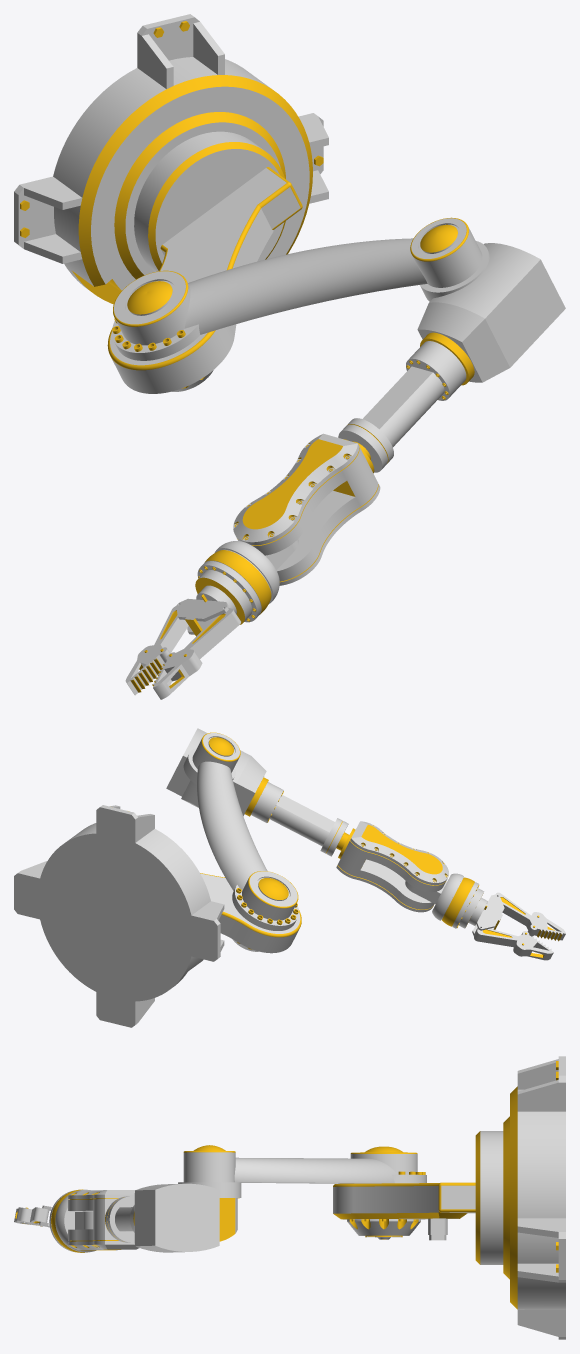
File: MRA.gltf
3 renders of one model, top to bottom at view 1: azimuth 30°, elevation 25°; view 2: azimuth 150°, elevation 25°; view 3: azimuth 270°, elevation 25°, orthographic. The views are drawn at different scales.
Parts seen in each view (by area): view 1: BASE, JAW1, JAW2, JAW3, JAW4, WRIST1, WRIST2, GRIPPER2, GRIPPER1; view 2: BASE, JAW2, JAW4, JAW3, JAW1, WRIST1, GRIPPER1, WRIST2, GRIPPER2; view 3: BASE, JAW1, JAW3, JAW2, JAW4, WRIST1, GRIPPER2.
Part boxes in pixels (x1,y1,x2,y2): BASE: (14, 14, 328, 304); JAW1: (107, 131, 302, 393); JAW2: (112, 217, 482, 360); JAW3: (338, 241, 565, 472); JAW4: (233, 433, 380, 585); WRIST1: (197, 539, 298, 622); WRIST2: (176, 571, 250, 636); GRIPPER2: (152, 608, 240, 699); GRIPPER1: (125, 606, 188, 695); BASE: (14, 805, 224, 1027); JAW2: (192, 732, 298, 930); JAW4: (336, 821, 448, 912); JAW3: (166, 728, 348, 856); JAW1: (200, 873, 301, 953); WRIST1: (405, 873, 479, 928); GRIPPER1: (474, 927, 553, 960); WRIST2: (460, 889, 504, 935); GRIPPER2: (496, 892, 565, 941); BASE: (503, 1056, 565, 1339); JAW1: (333, 1131, 503, 1264); JAW3: (105, 1182, 241, 1252); JAW2: (183, 1145, 426, 1183); JAW4: (68, 1190, 139, 1250); WRIST1: (49, 1189, 96, 1252); GRIPPER2: (14, 1207, 49, 1226).
Bounding box in the file's own units: 0.6408 × 0.4474 × 0.7403.
